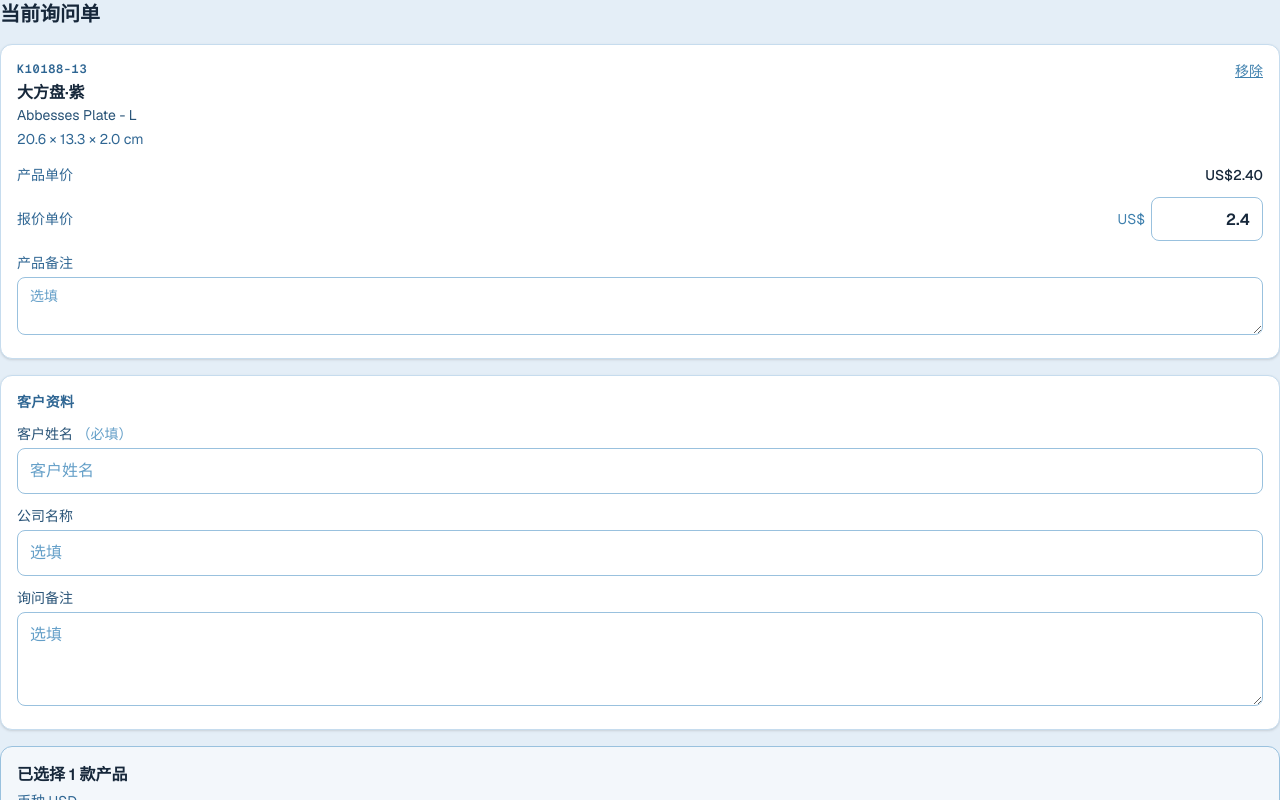
Scenario: submission › sends only one request when Save is clicked repeatedly
Type "Ada" into the field labelled "客户姓名 （必填）" at (640, 471), box [17,448,1263,494]
(page scrolled)
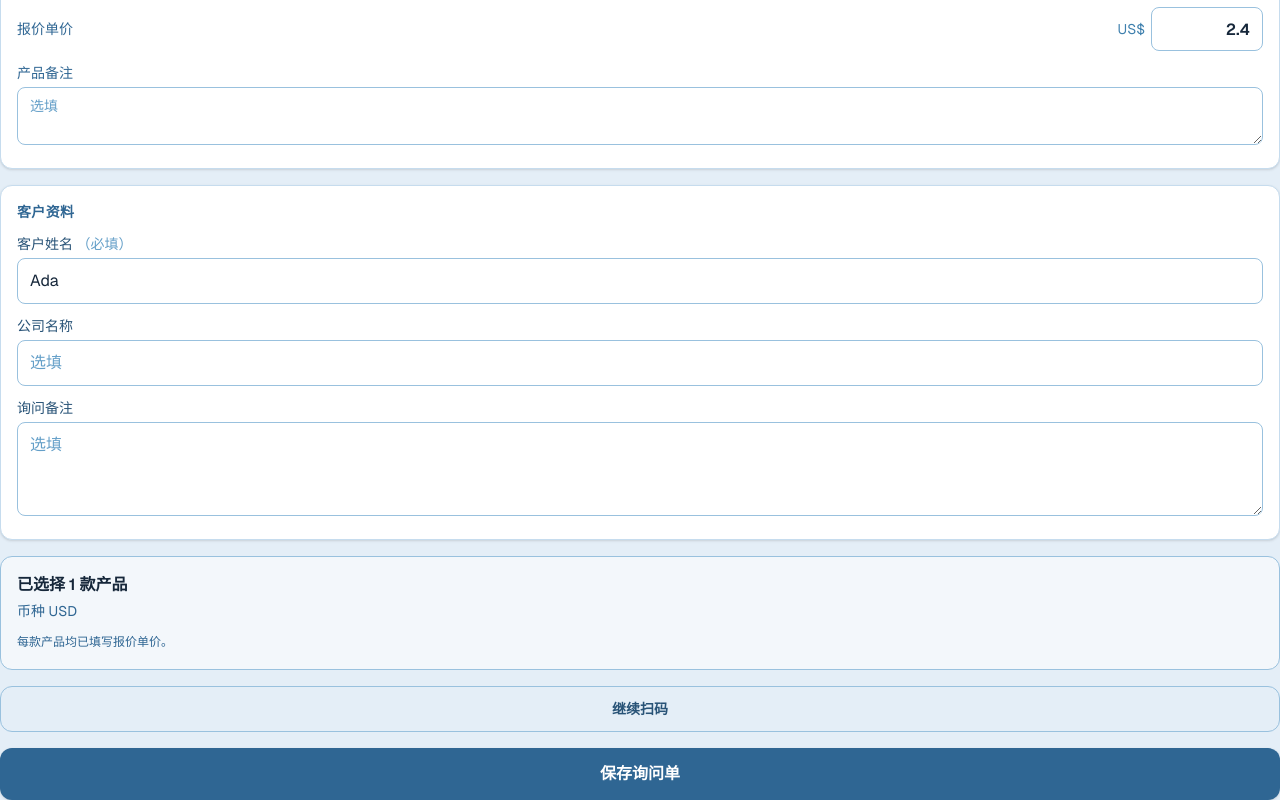
Click the button "保存询问单" at (640, 774), box [0,748,1279,799]
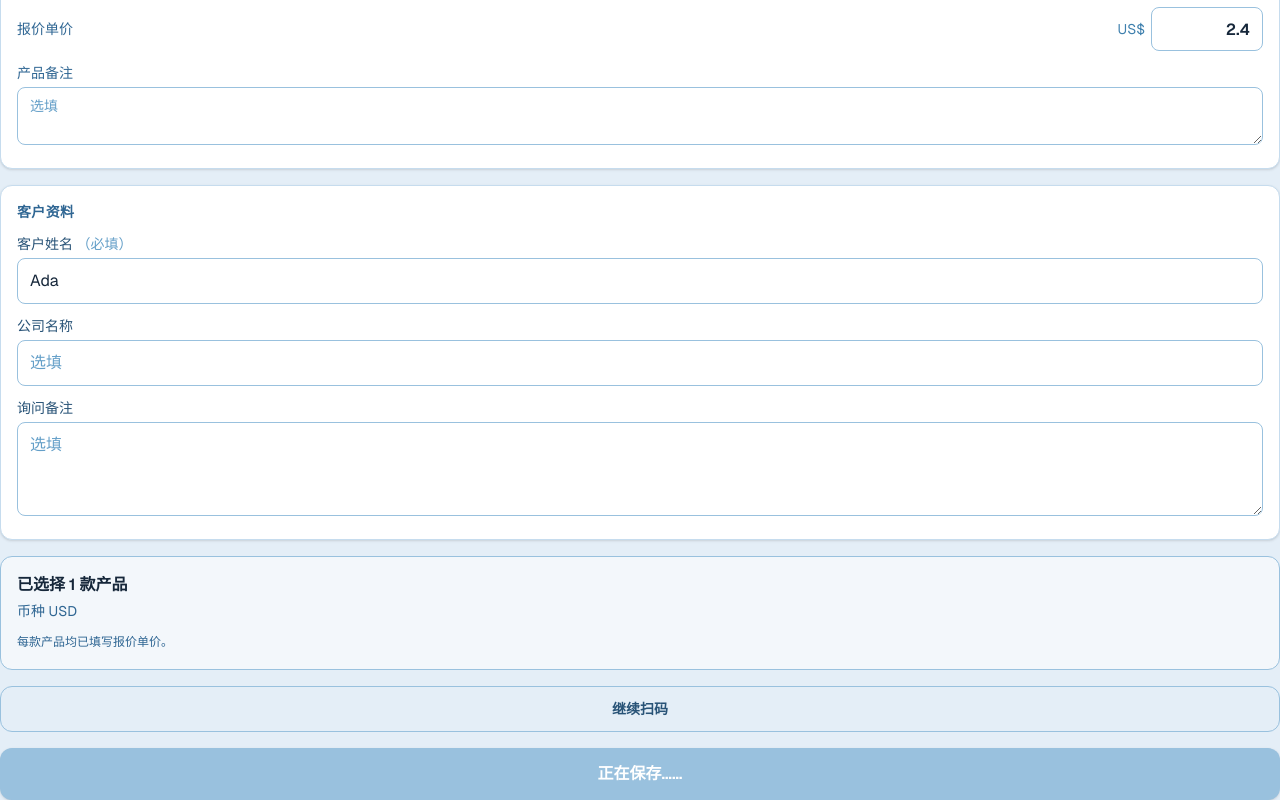
Click the button "正在保存……" at (640, 774), box [0,748,1279,799]
(page scrolled)
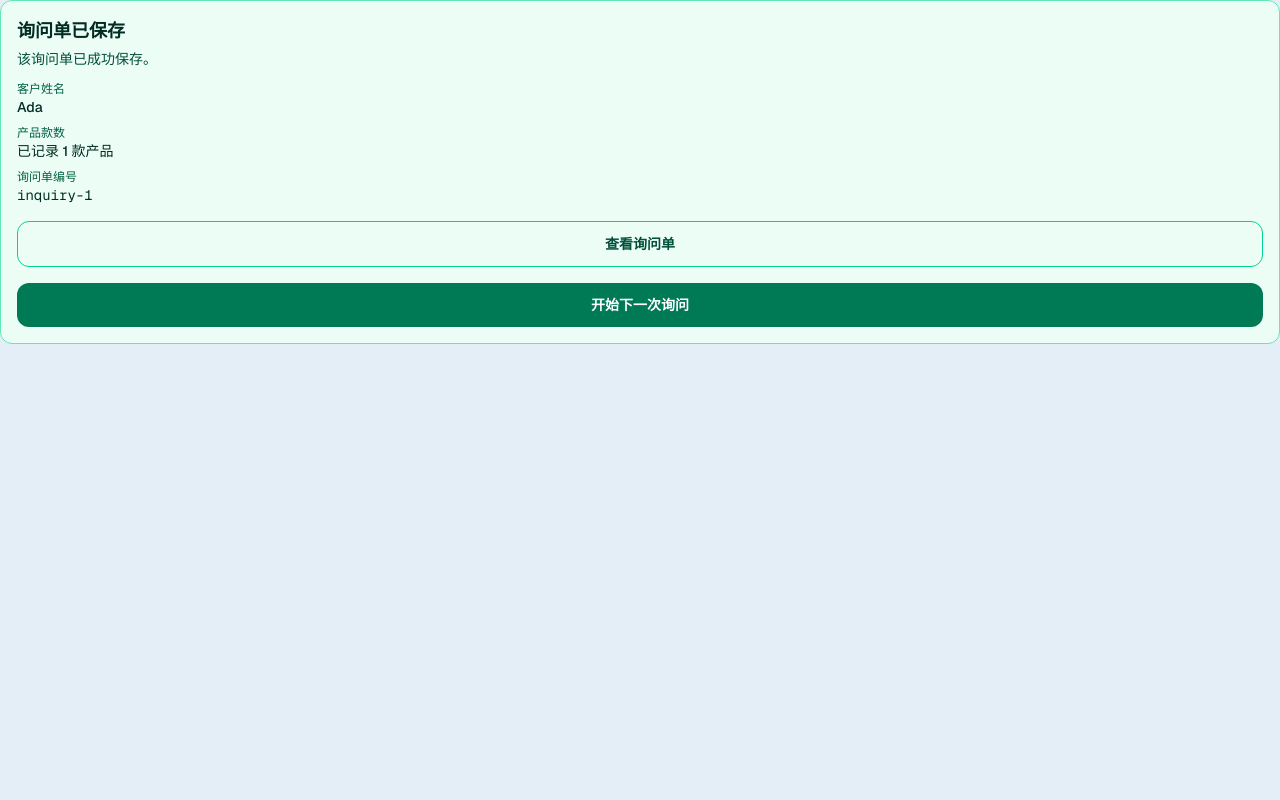
Check: the text "询问单已保存" is shown, box [17,19,125,42]
